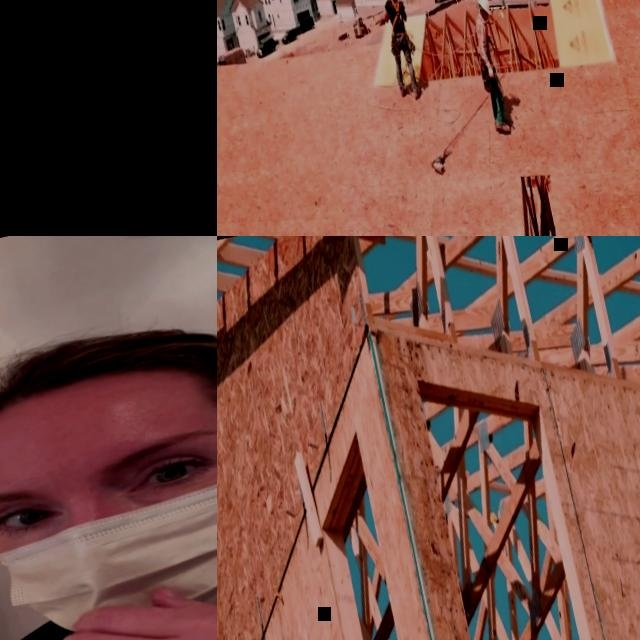Hardhat: (475, 0, 490, 16)
Mask: (0, 428, 217, 640)
NO-Hardhat: (0, 304, 217, 464)
NO-Mask: (482, 14, 488, 21)
NO-Safety Vest: (385, 0, 406, 34)
Person: (0, 260, 217, 640), (465, 0, 515, 133), (377, 0, 424, 102)
vehicle: (254, 36, 278, 59), (294, 15, 315, 34), (280, 27, 300, 44)
